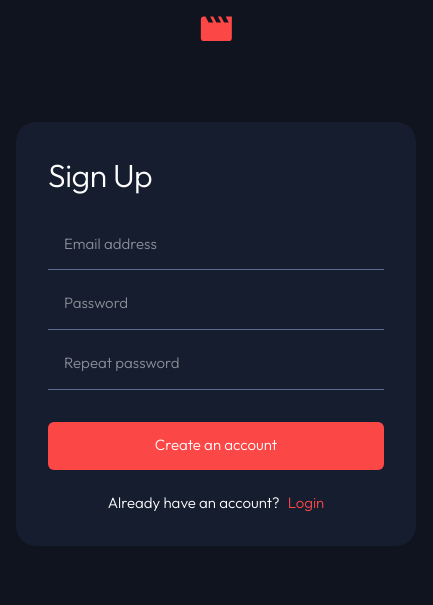
Test case: SignUpPage › explains EMAIL_TAKEN with a Login link and keeps the email
expect the button "Create an account" is shown: met, box [48,422,384,470]
Type "qa1@example.com" into the field labelled "Email address". click: (216, 244)
box: [64,235,368,253]
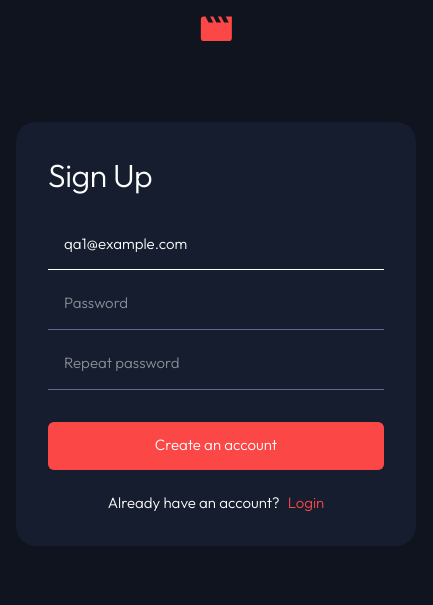
Type "password1" into the password field labelled "Password". click: (216, 304)
box: [64,294,368,313]
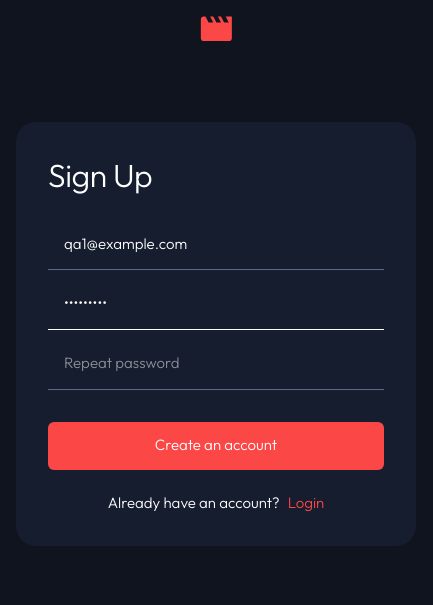
Type "password1" into the password field labelled "Repeat password". click: (216, 364)
box: [64,354,368,373]
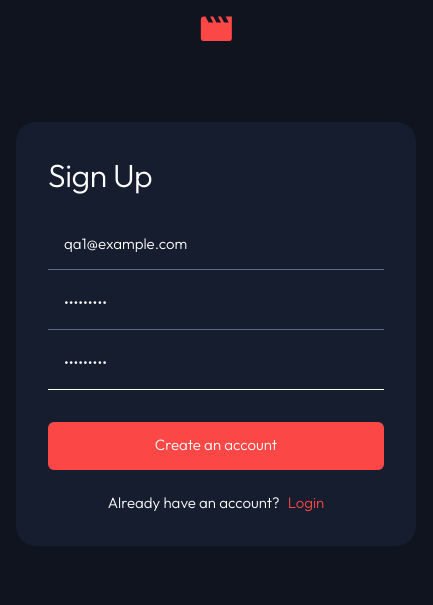
Click the button "Create an account". click: (216, 446)
box: [48,422,384,470]
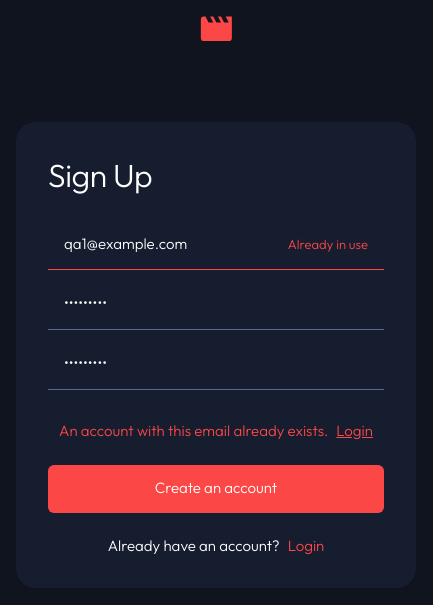
expect the message shows "An account with this email already exists.": met, box [59,421,328,440]
